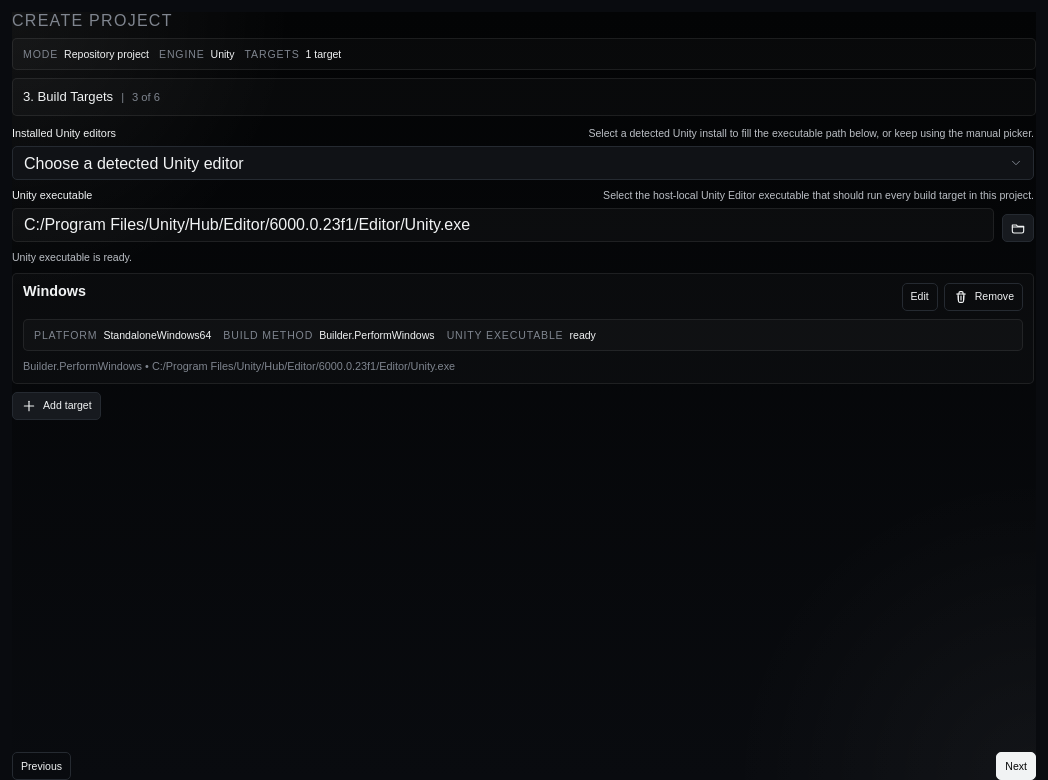
Test: CreateProjectWizard › lists detected Unity editors in the step and fills the shared executable path
Check: the button named "Choose Unity executable" is shown, box [1002,214,1034,242]
Select "6000.4.3f1" in the dropdown labelled "Installed Unity editors" at [523, 163], box [12,146,1034,180]
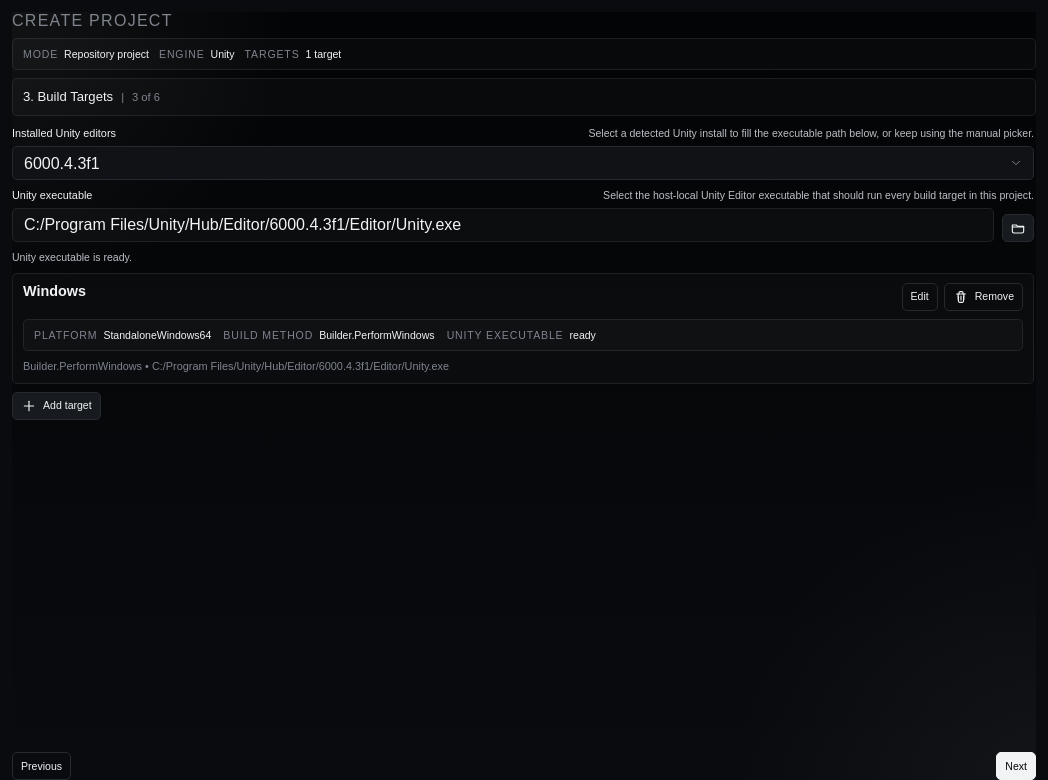
Check: the field showing "C:/Program Files/Unity/Hub/Editor/6000.4.3f1/Editor/Unity.exe" is shown, box [12,208,994,242]
